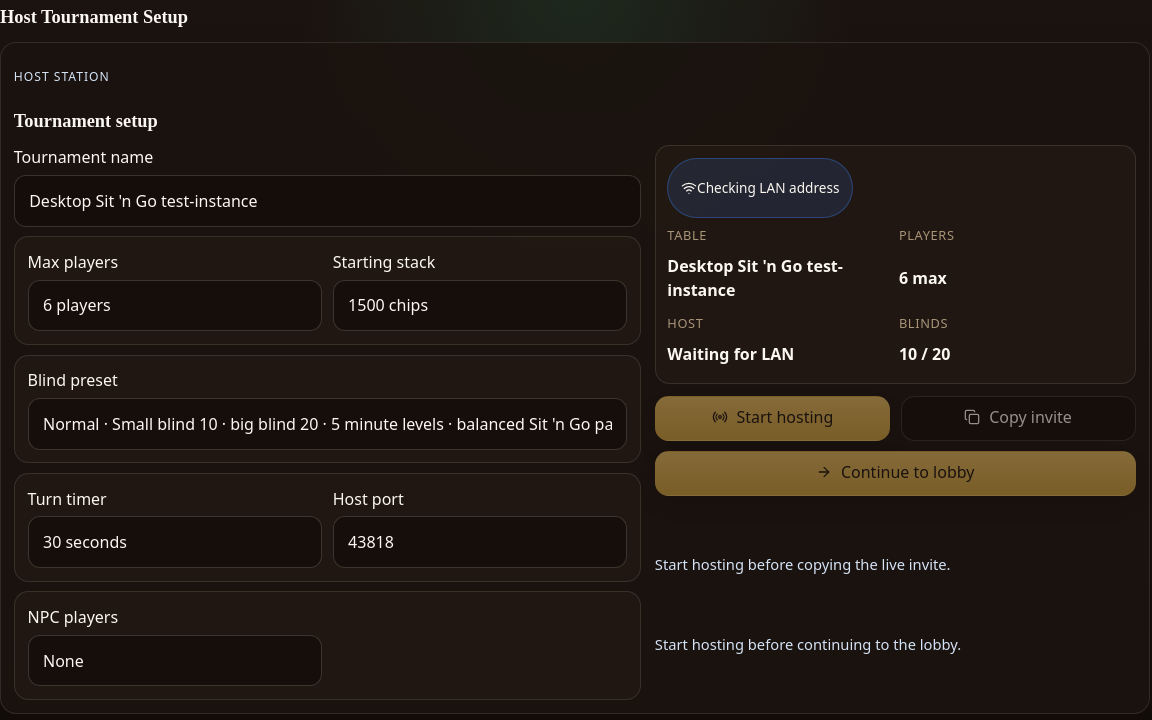
it: HostTournamentSetupScreen › shows NPC style selector when npcCount is set to 1 or more
(page scrolled)
Select "2 bots" in the dropdown labelled "NPC players": (175,661) [28,635,322,686]
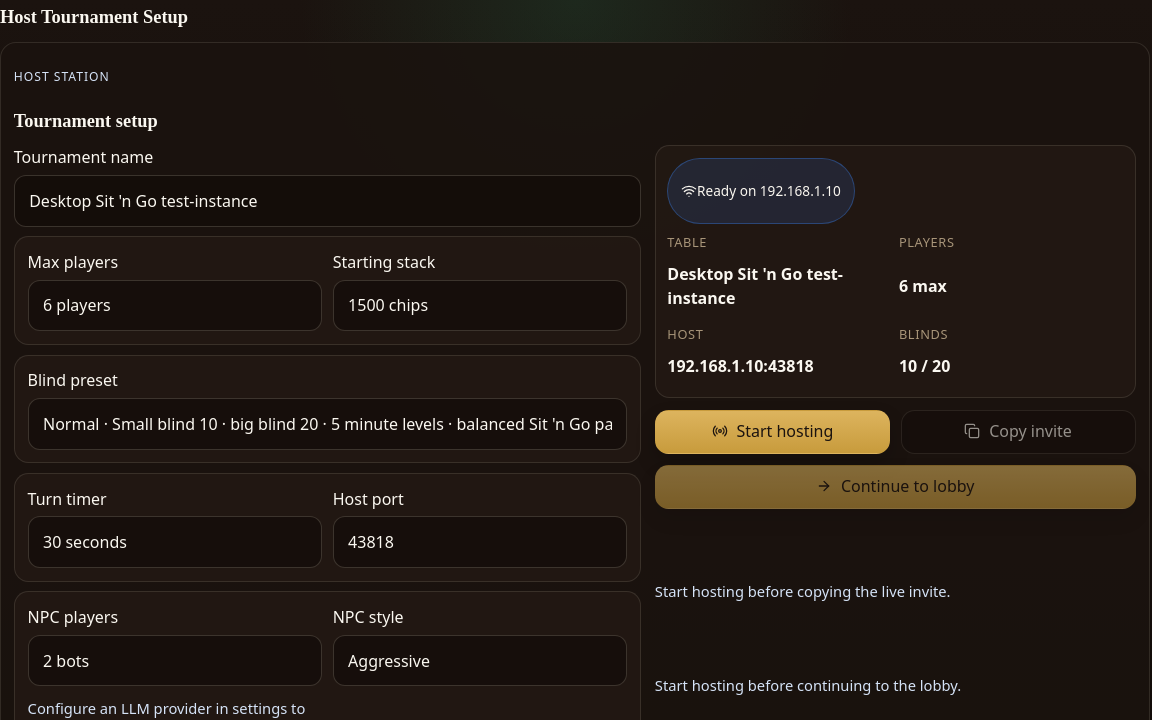
Expected: the dropdown labelled "NPC style" is shown, [333,635,627,686]
